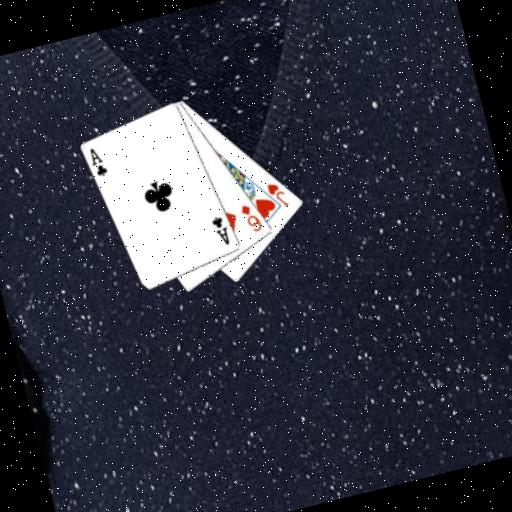6D: (237, 198, 266, 236)
AC: (208, 212, 234, 249), (85, 143, 111, 180)
JH: (264, 177, 292, 212)
